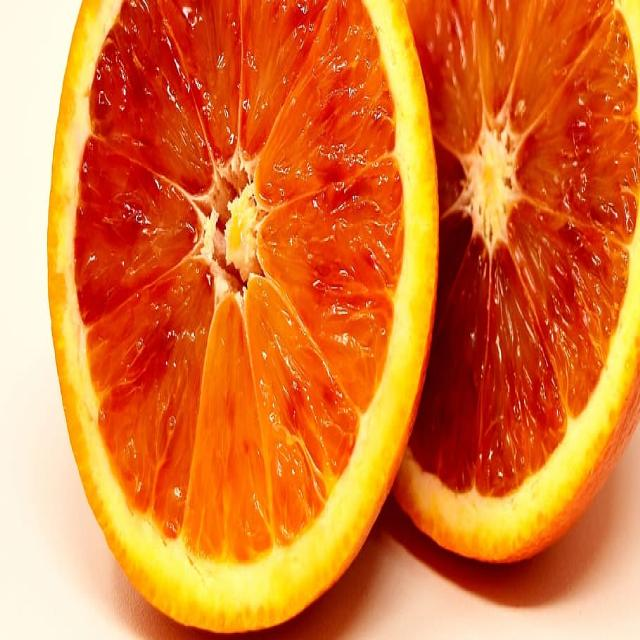orange: (50, 0, 434, 639), (436, 8, 638, 560)
